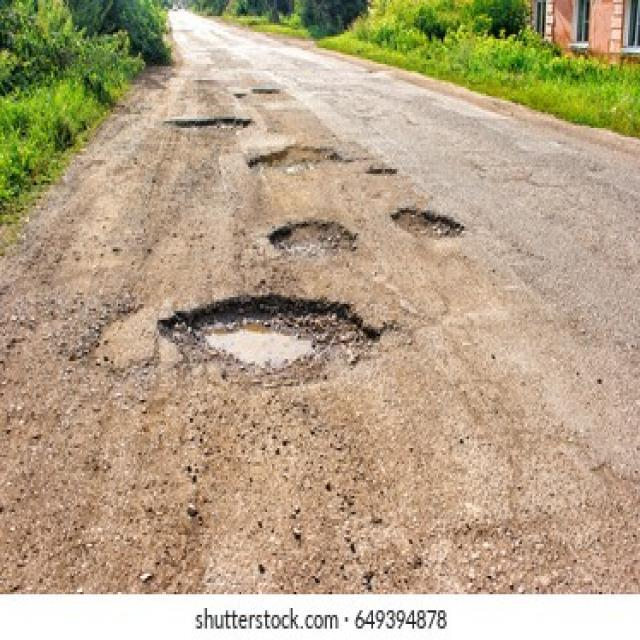Pothole: (152, 290, 380, 386), (265, 220, 356, 258), (246, 142, 350, 174), (388, 206, 464, 242), (164, 114, 255, 133), (366, 164, 401, 177), (250, 85, 280, 96), (232, 91, 246, 102)
